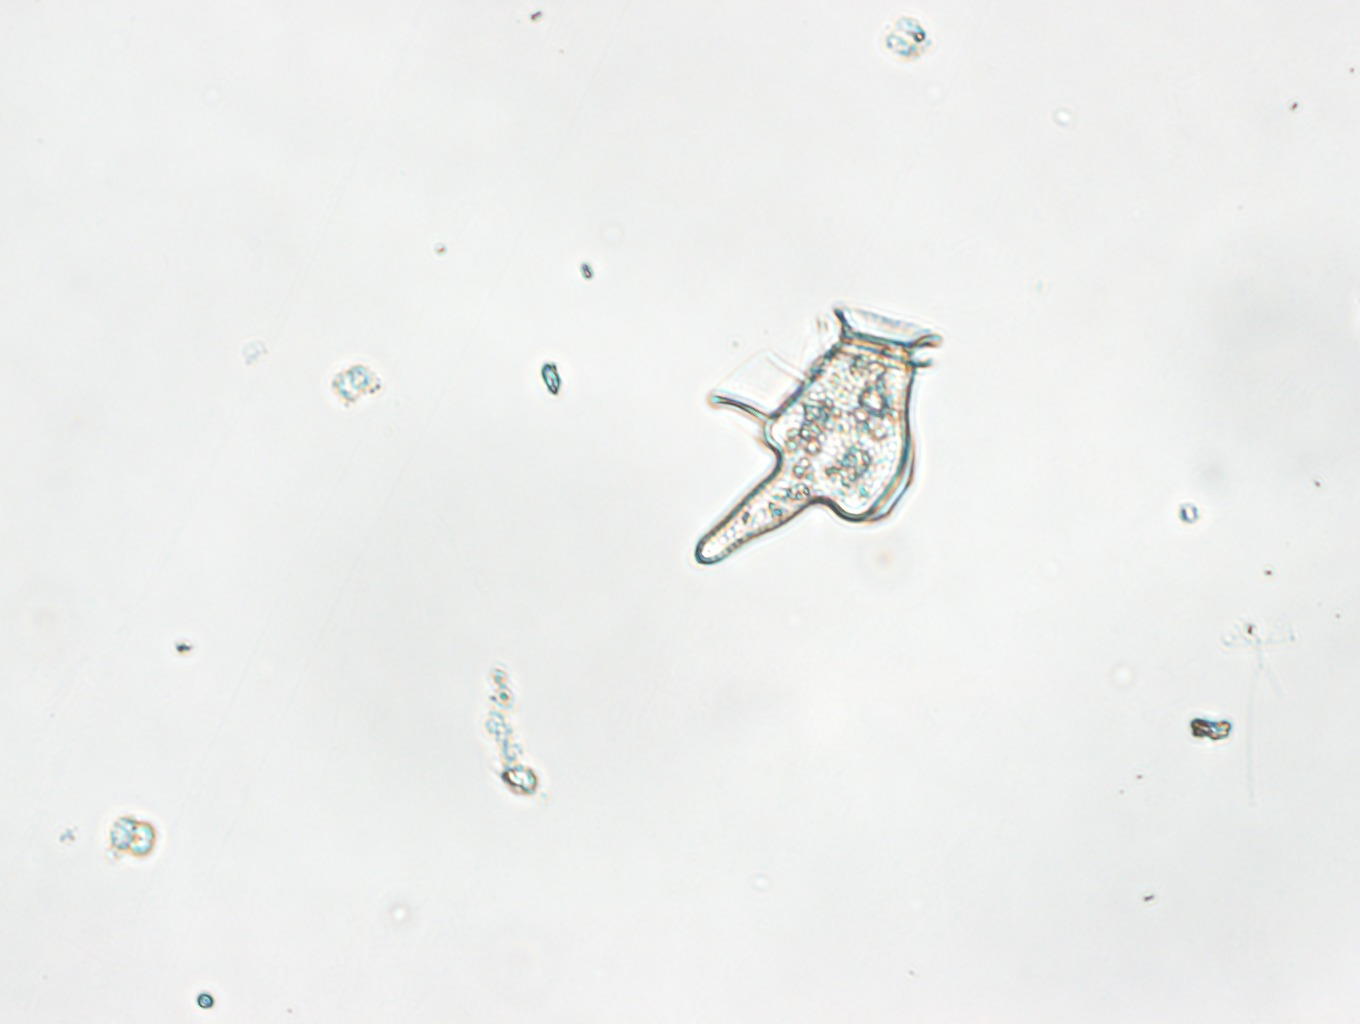dinophysis caudata: (692, 299, 950, 568)
